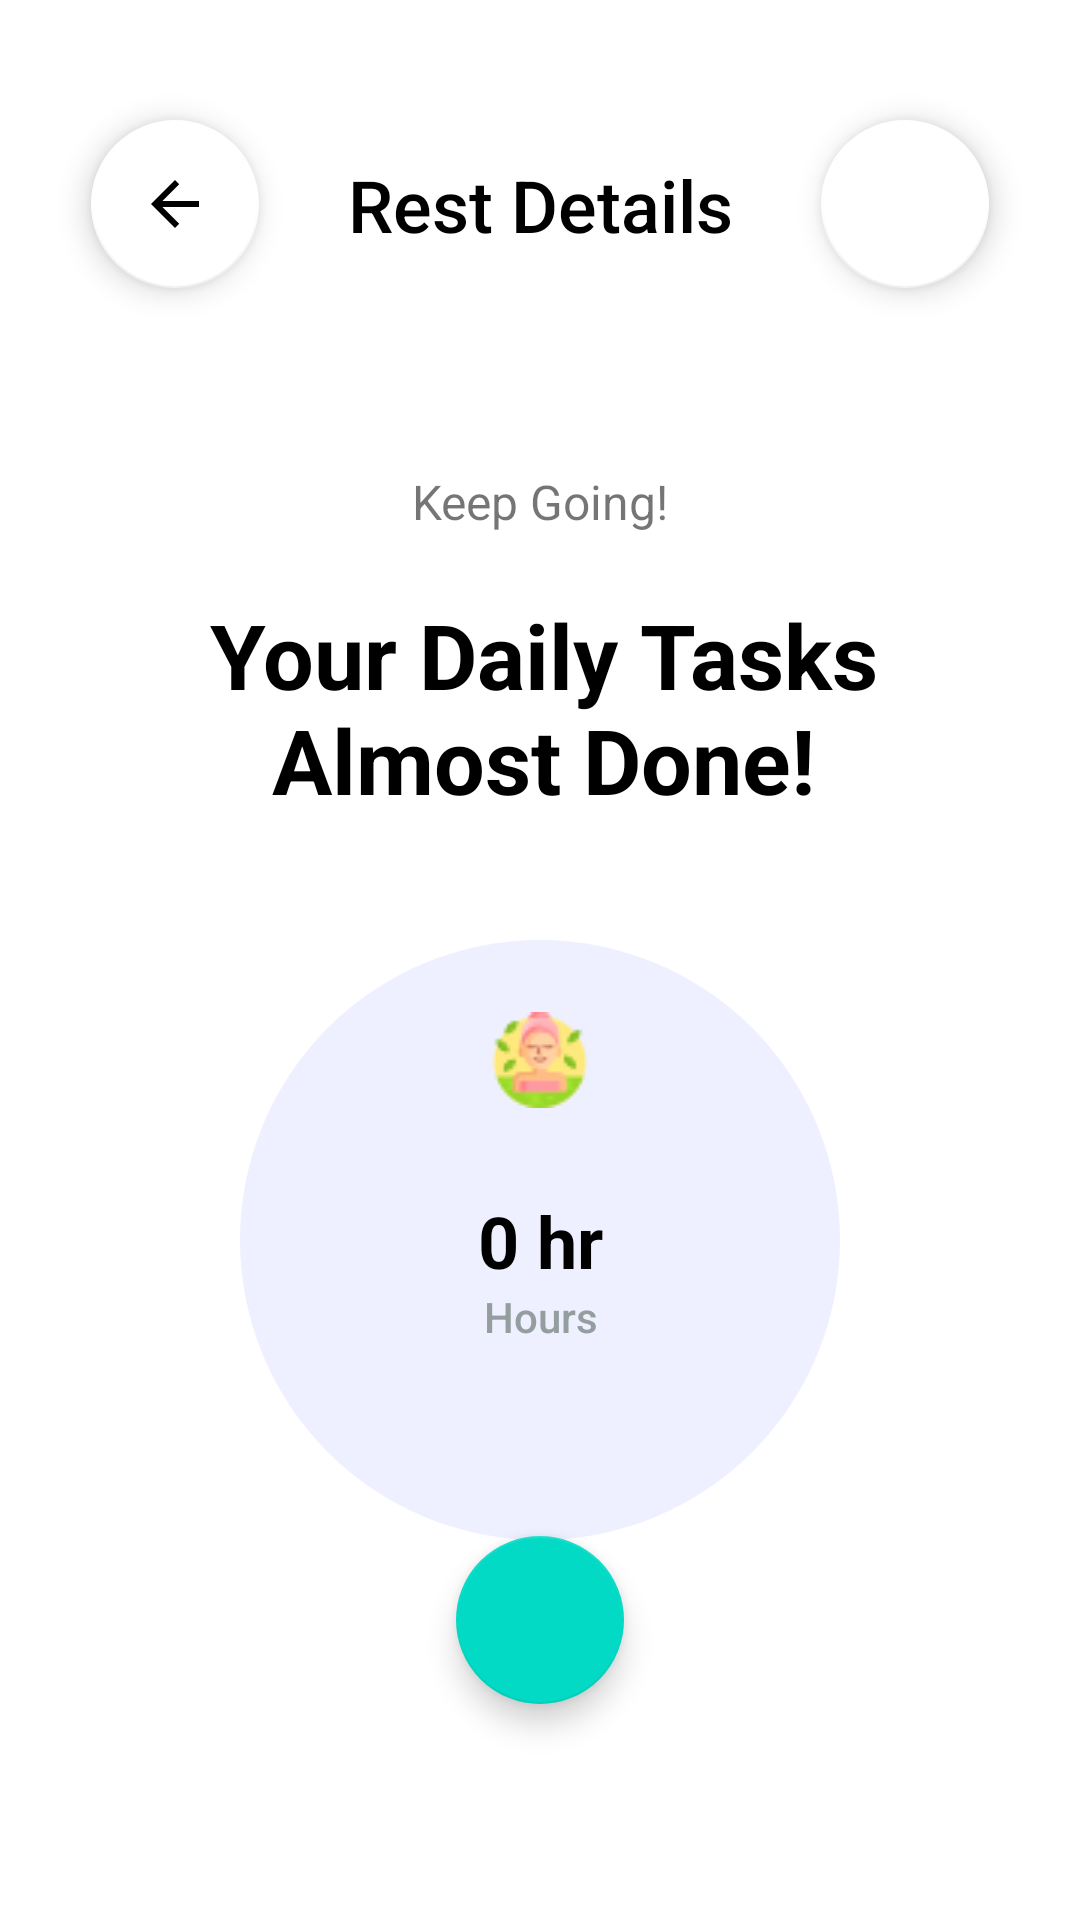

Where to tap for icons on this 1080 × 1920 app screen, as (x,y):
spa: (540,1060)
